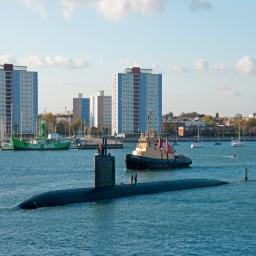submarine: (14, 153, 230, 211)
